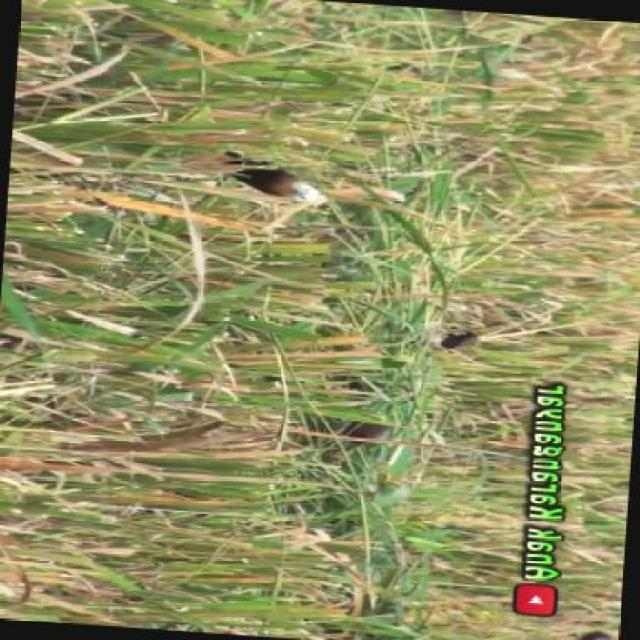Bird: (212, 140, 328, 244)
